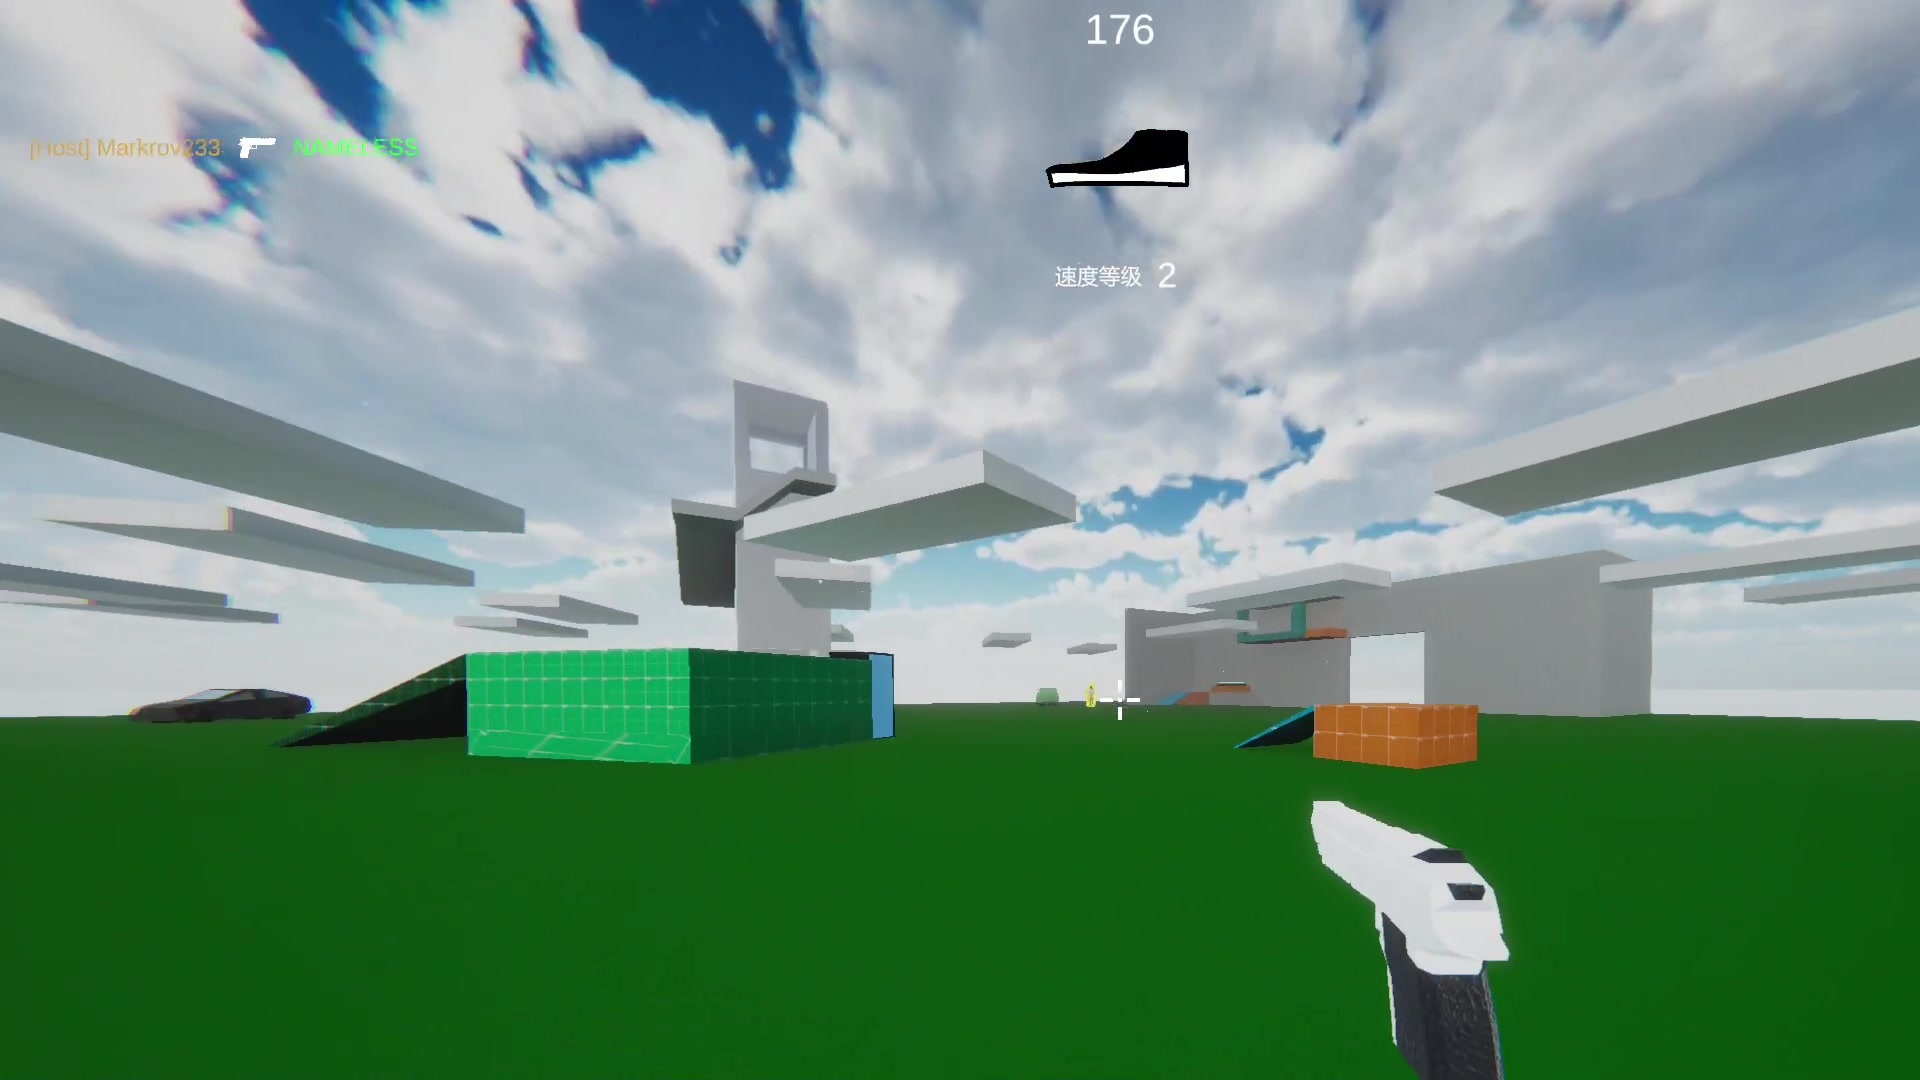human: (1087, 679, 1099, 710)
